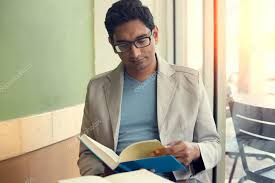Indian_Male: (104, 10, 168, 75)
